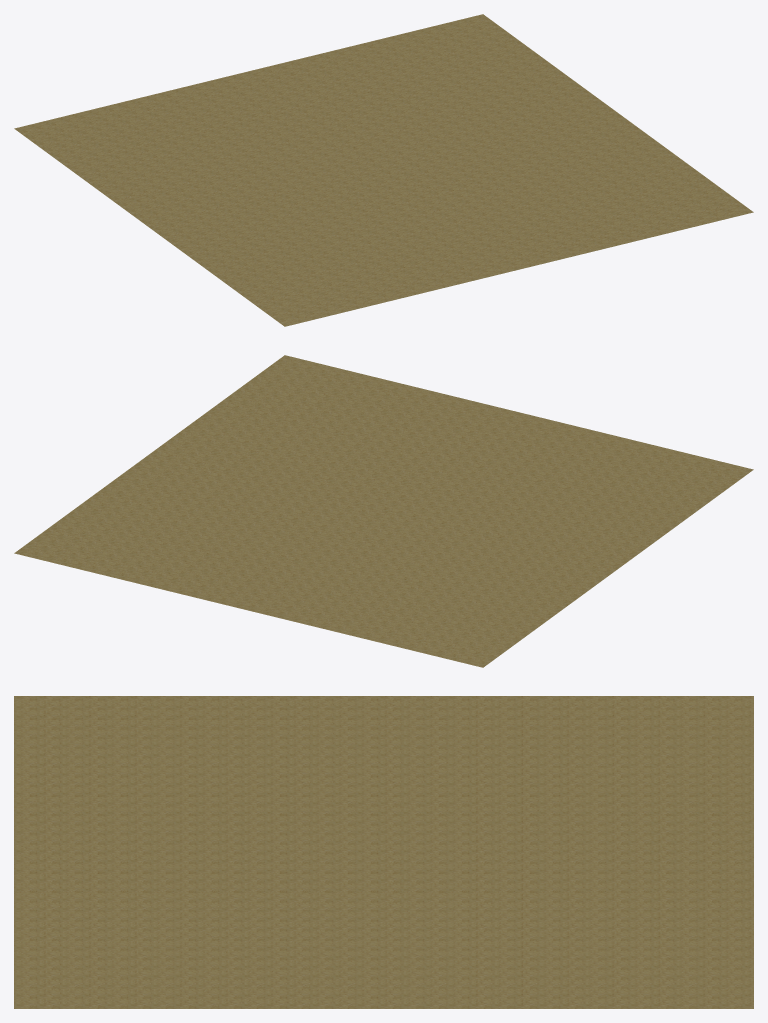
The model's file is terrain4.obj.
3 views of the same model, one above another, from view 1: azimuth 30°, elevation 25°; view 2: azimuth 150°, elevation 25°; view 3: azimuth 270°, elevation 25° (orthographic). The views are drawn at different scales.
Visible parts, largest first — view 1: Plane; view 2: Plane; view 3: Plane.
Part boxes in pixels (x1,y1,x2,y2): Plane: [14, 14, 753, 326]; Plane: [14, 355, 753, 667]; Plane: [14, 696, 753, 1008].
Bounding box in the file's own units: 162 × 2.6e-05 × 162.
1 material, 1 textured.
